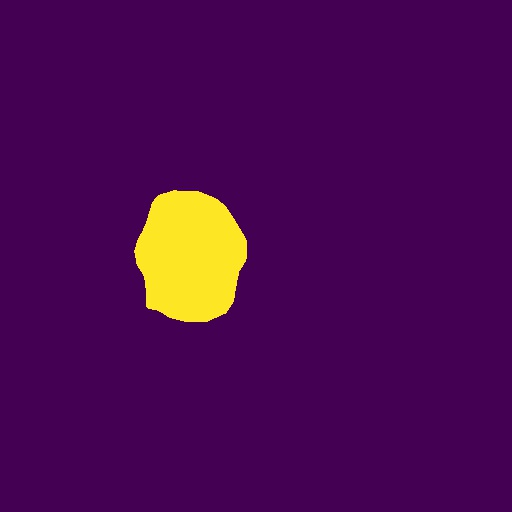Gliomia_tumour: (134, 190, 247, 322)
